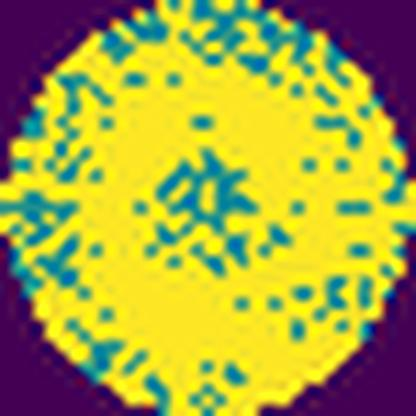Near-full: (67, 36, 415, 416)
